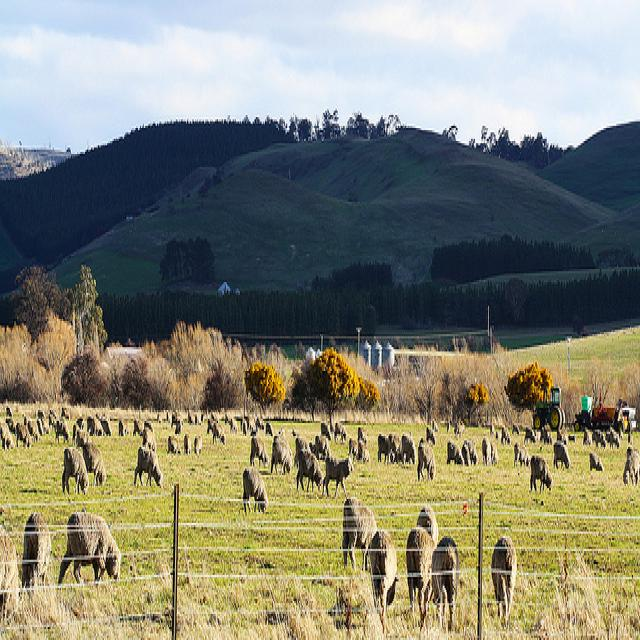Vehicle: (530, 384, 567, 432), (574, 408, 612, 432), (614, 398, 637, 431)
